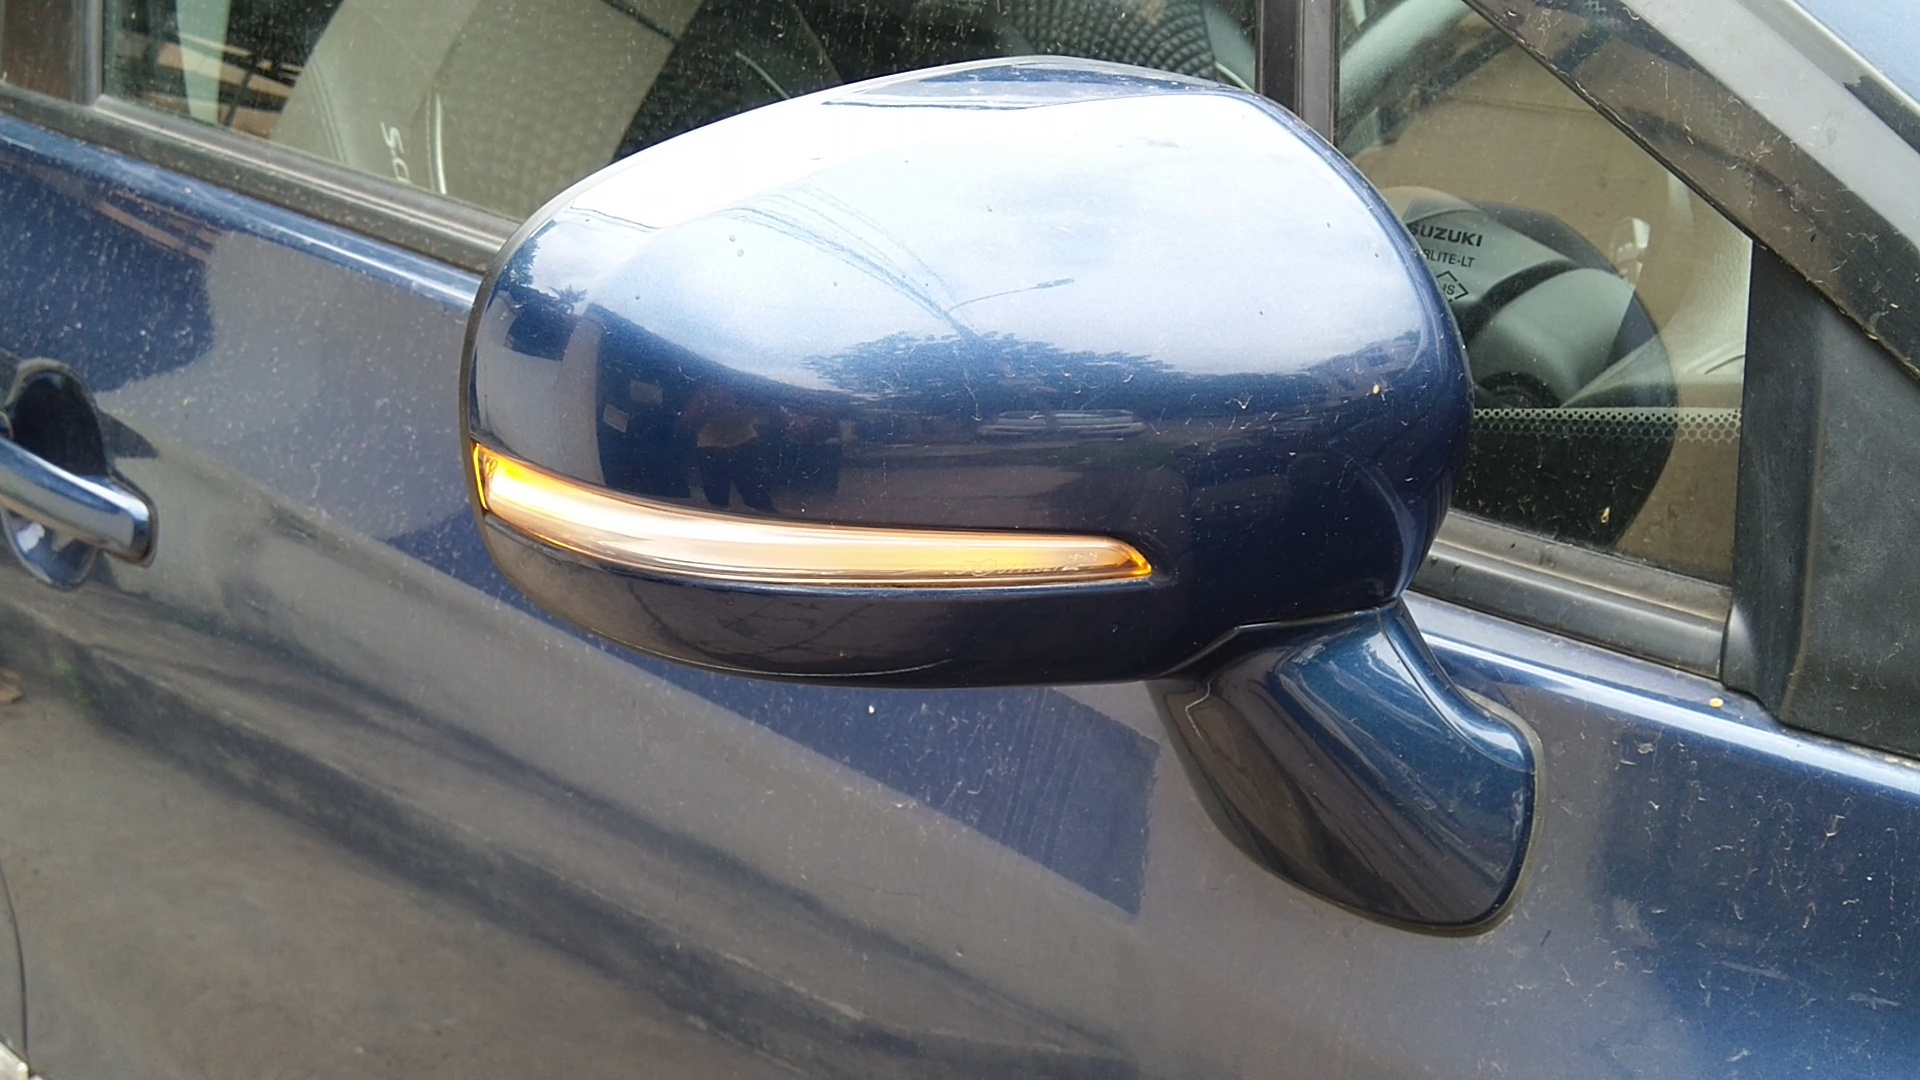ovr_mirror: (384, 37, 1611, 986)
